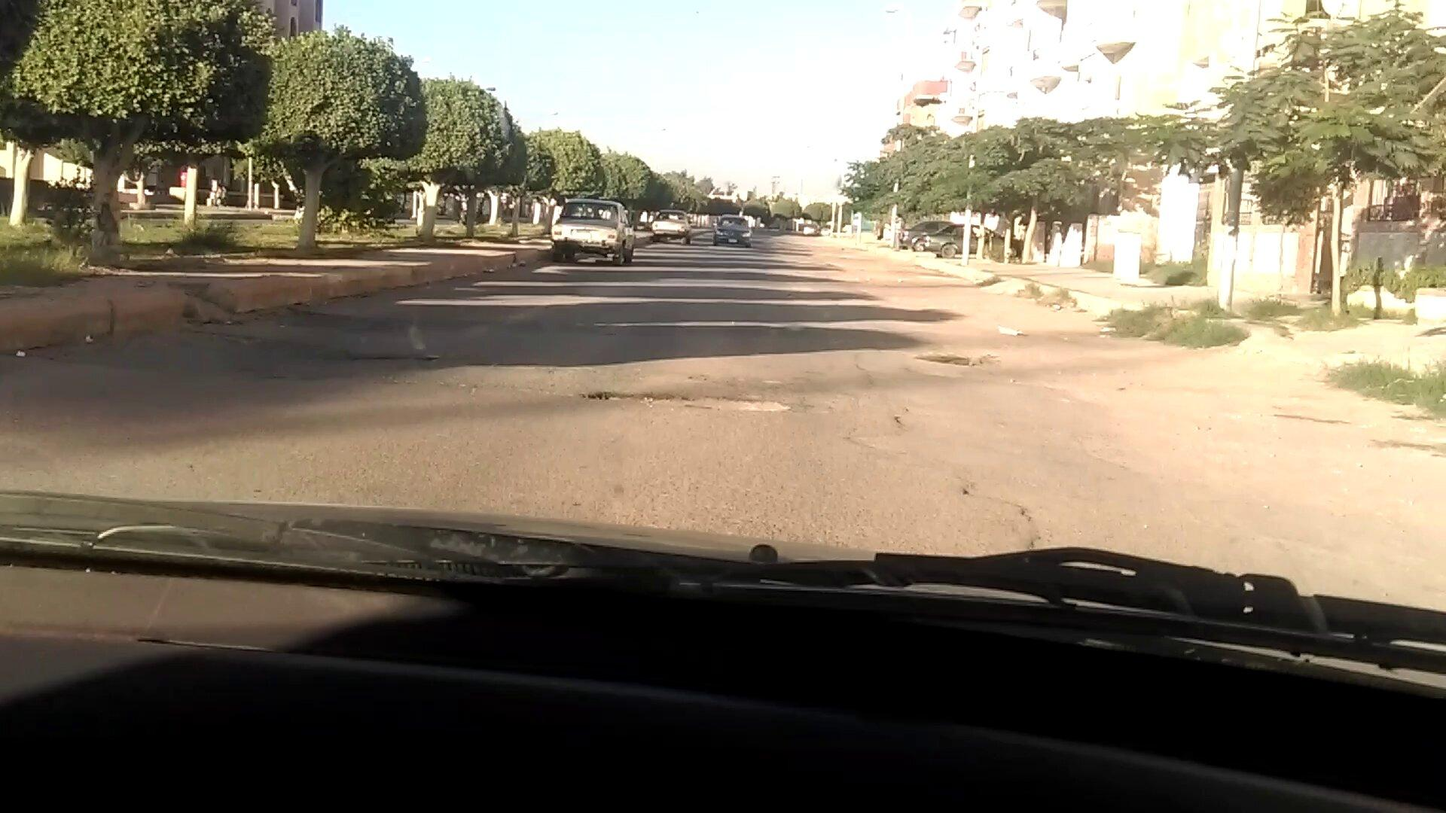Pothole: (580, 375, 808, 425), (902, 335, 1004, 380), (341, 339, 458, 376)
